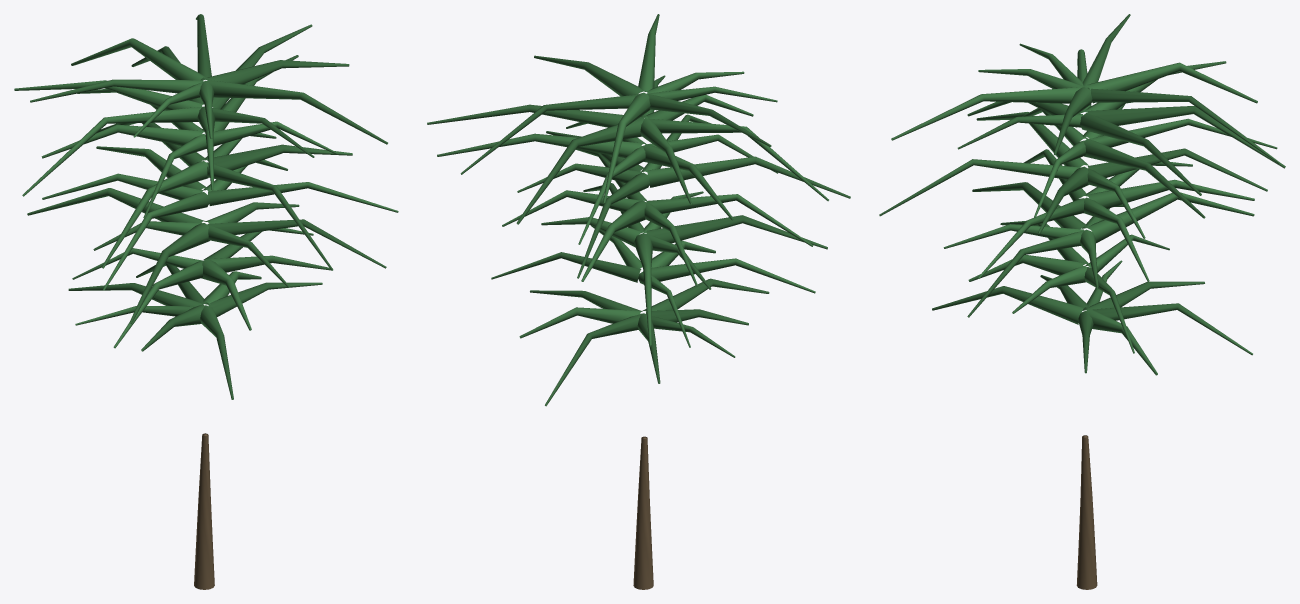
Rendered from field_pine_a_lod0.glb.
3 views of the same model, side by side, from view 1: azimuth 30°, elevation 25°; view 2: azimuth 150°, elevation 25°; view 3: azimuth 270°, elevation 25° (orthographic). The views are drawn at different scales.
Visible parts, largest first — view 1: foliage, bark; view 2: foliage, bark; view 3: foliage, bark.
Boxes of the visible parts, x1,y1,x2,y2 form: foliage: (14,14,398,399); bark: (194,433,214,589); foliage: (427,14,850,406); bark: (633,436,653,589); foliage: (879,14,1285,375); bark: (1076,435,1097,589).
Size of the model in its own units: 5.83 by 8.26 by 5.94.
